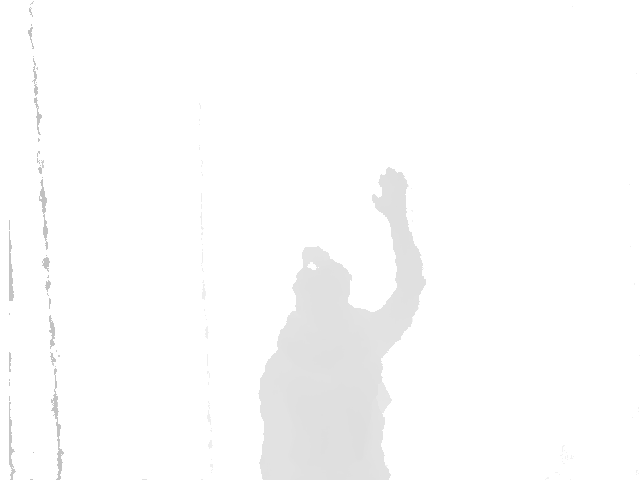hand: (371, 165, 409, 220)
head: (291, 245, 354, 316)
person: (257, 165, 427, 479)
